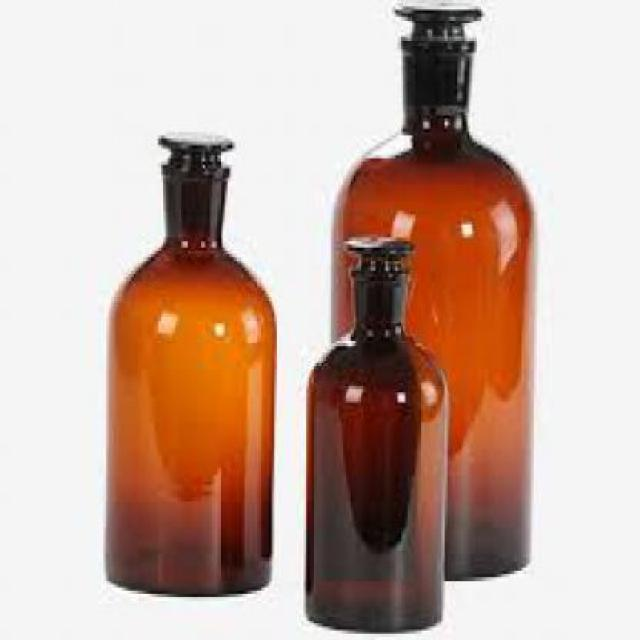kaca: (331, 3, 529, 577), (101, 129, 272, 594), (303, 234, 440, 637)
